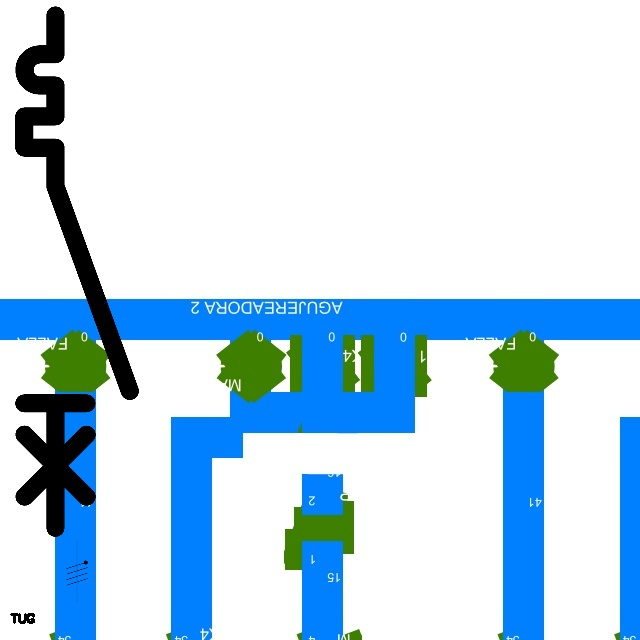interruptor_termomagnetico: (11, 2, 143, 541)
